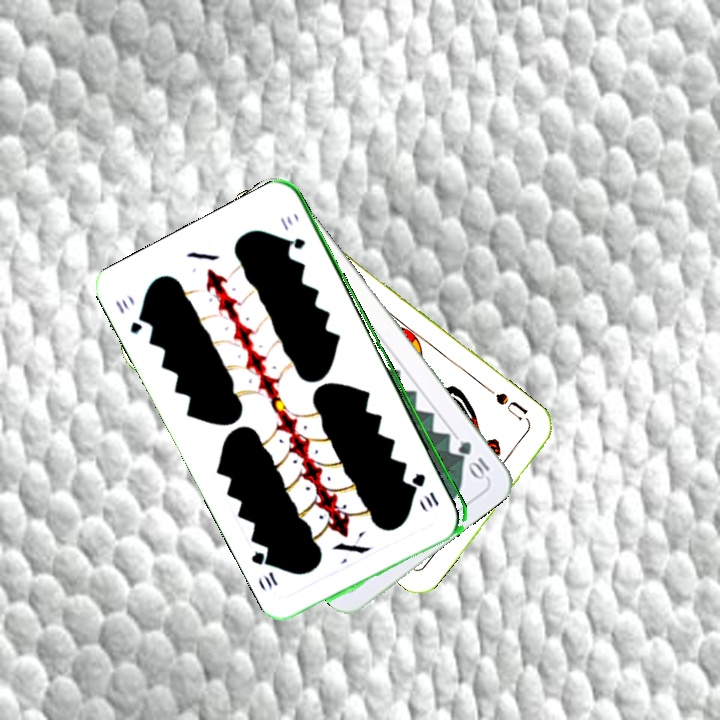G10: (453, 436, 493, 482), (111, 295, 150, 337), (410, 468, 442, 509)
SU: (491, 388, 534, 427)
